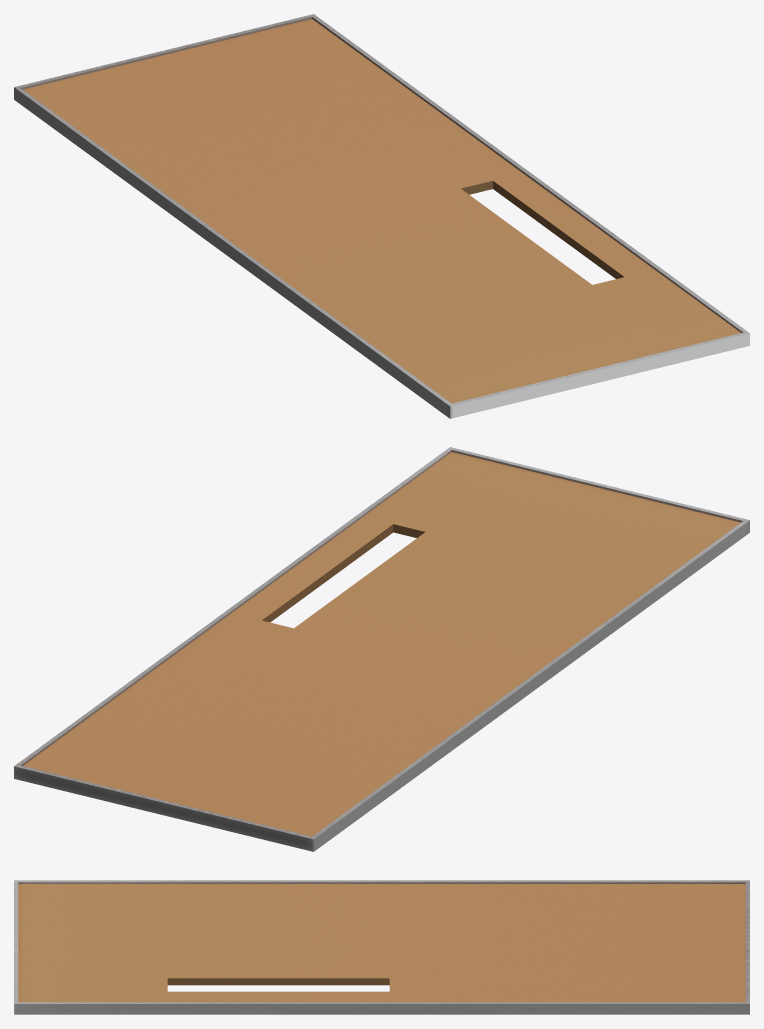
Rendered from door.obj.
The picture shows the model from 3 angles, top to bottom: view 1: azimuth 30°, elevation 25°; view 2: azimuth 150°, elevation 25°; view 3: azimuth 270°, elevation 25°; orthographic projection. The views are drawn at different scales.
Parts seen in each view (by area): view 1: door_Cube; view 2: door_Cube; view 3: door_Cube.
Part boxes in pixels (left/top/right/bottom): door_Cube: left=14, top=14, right=749, bottom=418; door_Cube: left=14, top=447, right=749, bottom=851; door_Cube: left=14, top=880, right=749, bottom=1014.
Bounding box in the file's own units: 0.75 × 0.03 × 1.89.
Materials: 1 (1 with a texture image).
